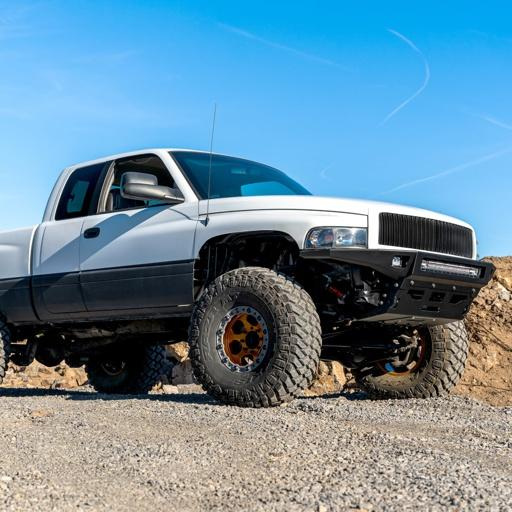truck: (0, 145, 496, 406)
